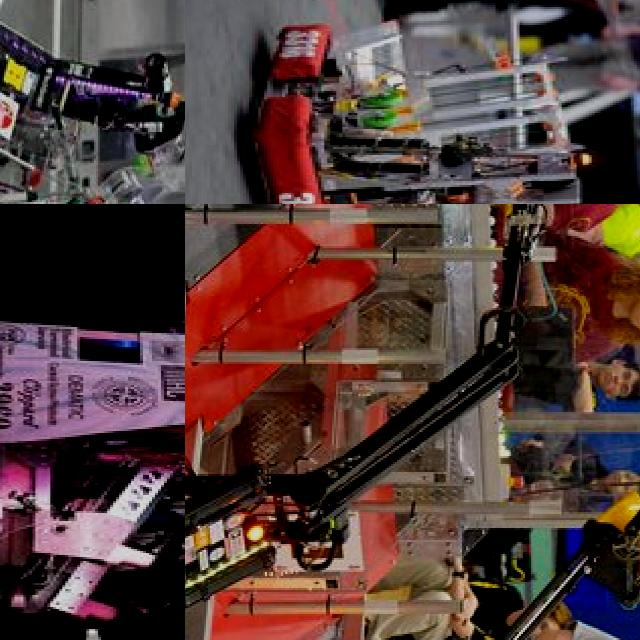FRC-Robots: (185, 204, 621, 640), (0, 204, 185, 640), (250, 8, 622, 204), (390, 432, 640, 640), (0, 0, 185, 204)
